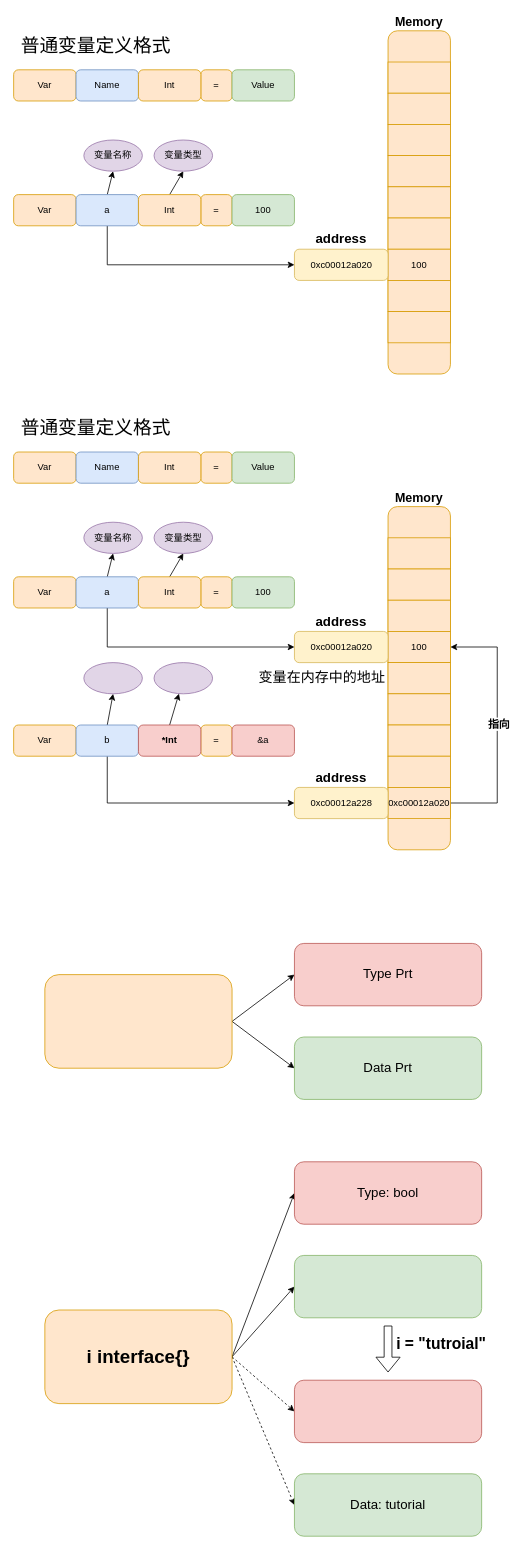
Some shapes in this 523 by 1550 pixel diagram are drawn without their labels. The centre of each missing label's shape, as x and y in pixels:
"Data: true" belongs at pixel 388 1286.
"interface{}" belongs at pixel 138 1021.
"Type: string" belongs at pixel 388 1411.
"指针变量名称" belongs at pixel 112 678.
"指针变量类型" belongs at pixel 183 678.
